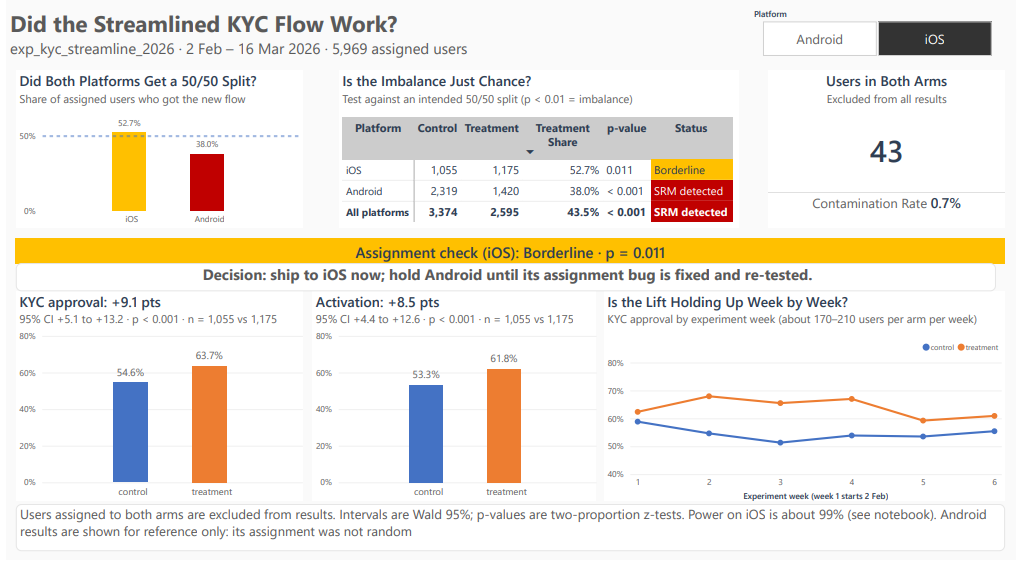

The page's visual inventory and layout, read from the dashboard file:
{"tool":"powerbi","page":{"name":"Experiment Results(exp_kyc_streamline_2026)","canvas":[1440,800],"ordinal":4},"visuals":[{"type":"textbox","box":[0,11,1439.4,89.8],"z":1000},{"type":"slicer","fields":{"Values":["dim_users.platform"]},"box":[1058.3,11,365.4,70.9],"z":2000},{"type":"textbox","box":[12.6,719.7,1411,67.7],"z":13000},{"type":"clusteredColumnChart","title":"Did Both Platforms Get a 50/50 Split?","fields":{"Category":["fact_experiment_assignments_all.platform"],"Y":["_mesure_exp.Treatment Share"]},"box":[12.6,100.8,409.4,225.2],"z":13001},{"type":"pivotTable","title":"Is the Imbalance Just Chance?","fields":{"Rows":["fact_experiment_assignments_all.platform"],"Values":["_mesure_exp.Assigned Control","_mesure_exp.Assigned Treatment","_mesure_exp.Treatment Share","_mesure_exp.SRM p Label","_mesure_exp.SRM Status"]},"box":[474,100.8,570.1,225.2],"z":13002},{"type":"cardVisual","title":"Users in Both Arms","fields":{"Data":["_mesure_exp.Contaminated Users"]},"box":[1086.6,100.8,337,225.2],"z":13003},{"type":"cardVisual","title":"Users in Both Arms","fields":{"Data":["_mesure_exp.Trust Banner"]},"box":[12.6,340.2,1411,36.2],"z":13004},{"type":"clusteredColumnChart","fields":{"Category":["fact_experiment_user_outcomes.variant"],"Y":["_mesure_exp.Approval Rate"]},"box":[12.6,415.7,409.4,299.2],"z":13005},{"type":"clusteredColumnChart","fields":{"Category":["fact_experiment_user_outcomes.variant"],"Y":["_mesure_exp.Exp_Activation Rate"]},"box":[436.2,415.7,404.7,299.2],"z":13006},{"type":"lineChart","title":"Is the Lift Holding Up Week by Week?","fields":{"Category":["fact_experiment_user_outcomes.experiment_week"],"Series":["fact_experiment_user_outcomes.variant"],"Y":["_mesure_exp.Approval Rate"]},"box":[852,415.7,571.7,299.2],"z":13007},{"type":"textbox","box":[12.6,376.4,1398.4,39.4],"z":13008}]}

Visuals, with their boxes in screenshot pixels (x1, y1, x2, y2), scaled from the page's 1440x800 canvas onto the 1024x574 screenshot:
textbox: (left=0, top=8, right=1023, bottom=72)
slicer - dim_users.platform: (left=753, top=8, right=1012, bottom=59)
textbox: (left=9, top=516, right=1012, bottom=565)
"Did Both Platforms Get a 50/50 Split?" clusteredColumnChart: (left=9, top=72, right=300, bottom=234)
"Is the Imbalance Just Chance?" pivotTable: (left=337, top=72, right=742, bottom=234)
"Users in Both Arms" cardVisual: (left=773, top=72, right=1012, bottom=234)
"Users in Both Arms" cardVisual: (left=9, top=244, right=1012, bottom=270)
clusteredColumnChart - fact_experiment_user_outcomes.variant x _mesure_exp.Approval Rate: (left=9, top=298, right=300, bottom=513)
clusteredColumnChart - fact_experiment_user_outcomes.variant x _mesure_exp.Exp_Activation Rate: (left=310, top=298, right=598, bottom=513)
"Is the Lift Holding Up Week by Week?" lineChart: (left=606, top=298, right=1012, bottom=513)
textbox: (left=9, top=270, right=1003, bottom=298)
